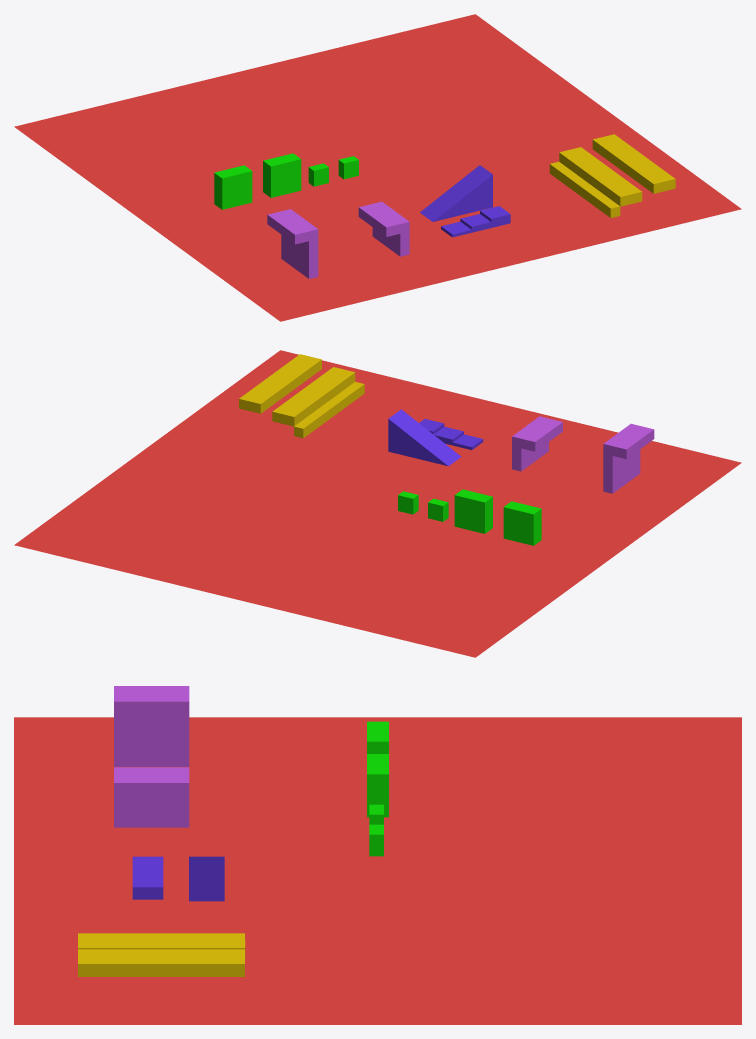
Rendered from Dev Test M1 Stealth Game(1).fbx.
3 views of the same model, one above another, from view 1: azimuth 30°, elevation 25°; view 2: azimuth 150°, elevation 25°; view 3: azimuth 270°, elevation 25° (orthographic). The views are drawn at different scales.
Visible parts, largest first — view 1: Plane.001, Walls.001, two person climb.001, Ramp.001, Crouch.001, Prone.001, one person climb.001, Mantle.001, stair.001, Half wall.001; view 2: Plane.001, Walls.001, two person climb.001, Ramp.001, Crouch.001, Prone.001, one person climb.001, Mantle.001, stair.001, Half wall.001; view 3: Plane.001, two person climb.001, Crouch.001, one person climb.001, Prone.001, Walls.001, Ramp.001, stair.001, Half wall.001.
Part boxes in pixels (x1=…): Plane.001: x1=14, y1=14, x2=741, y2=321; Walls.001: x1=214, y1=153, x2=301, y2=209; two person climb.001: x1=267, y1=209, x2=318, y2=278; Ramp.001: x1=420, y1=165, x2=492, y2=221; Crouch.001: x1=592, y1=134, x2=675, y2=193; Prone.001: x1=559, y1=147, x2=642, y2=206; one person climb.001: x1=358, y1=201, x2=409, y2=256; Mantle.001: x1=549, y1=161, x2=620, y2=217; stair.001: x1=441, y1=206, x2=510, y2=237; Half wall.001: x1=308, y1=156, x2=358, y2=186; Plane.001: x1=14, y1=350, x2=741, y2=657; Walls.001: x1=454, y1=489, x2=541, y2=545; two person climb.001: x1=603, y1=423, x2=654, y2=493; Ramp.001: x1=388, y1=409, x2=461, y2=466; Crouch.001: x1=239, y1=354, x2=321, y2=413; Prone.001: x1=272, y1=367, x2=355, y2=426; one person climb.001: x1=512, y1=416, x2=562, y2=471; Mantle.001: x1=294, y1=382, x2=364, y2=438; stair.001: x1=419, y1=419, x2=483, y2=449; Half wall.001: x1=398, y1=491, x2=448, y2=521; Plane.001: x1=14, y1=717, x2=741, y2=1024; two person climb.001: x1=114, y1=686, x2=189, y2=766; Crouch.001: x1=78, y1=949, x2=244, y2=976; one person climb.001: x1=114, y1=767, x2=189, y2=827; Prone.001: x1=78, y1=933, x2=244, y2=949; Walls.001: x1=367, y1=721, x2=388, y2=817; Ramp.001: x1=189, y1=856, x2=224, y2=901; stair.001: x1=132, y1=856, x2=163, y2=899; Half wall.001: x1=369, y1=804, x2=383, y2=856.
Size of the model in its own units: 9956 by 1111 by 9956.
